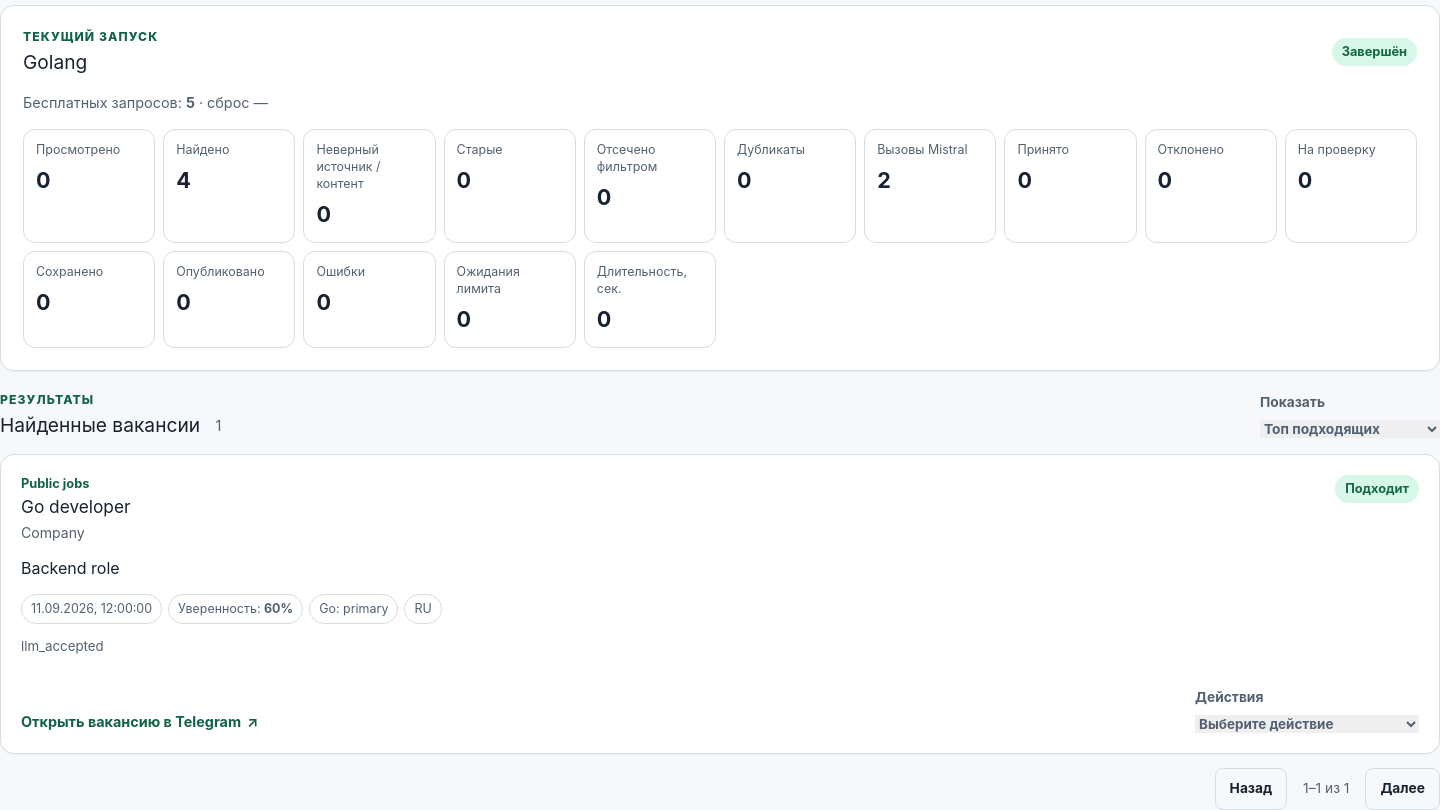
it: Premium search › confirms publication of a accepted card
This screenshot has width=1440, height=810.
(page scrolled)
Select "Опубликовать в Candidate Bot" in the dropdown named "Действия с вакансией «Go developer»" at (1307, 724), box [1195, 715, 1419, 733]
(page scrolled)
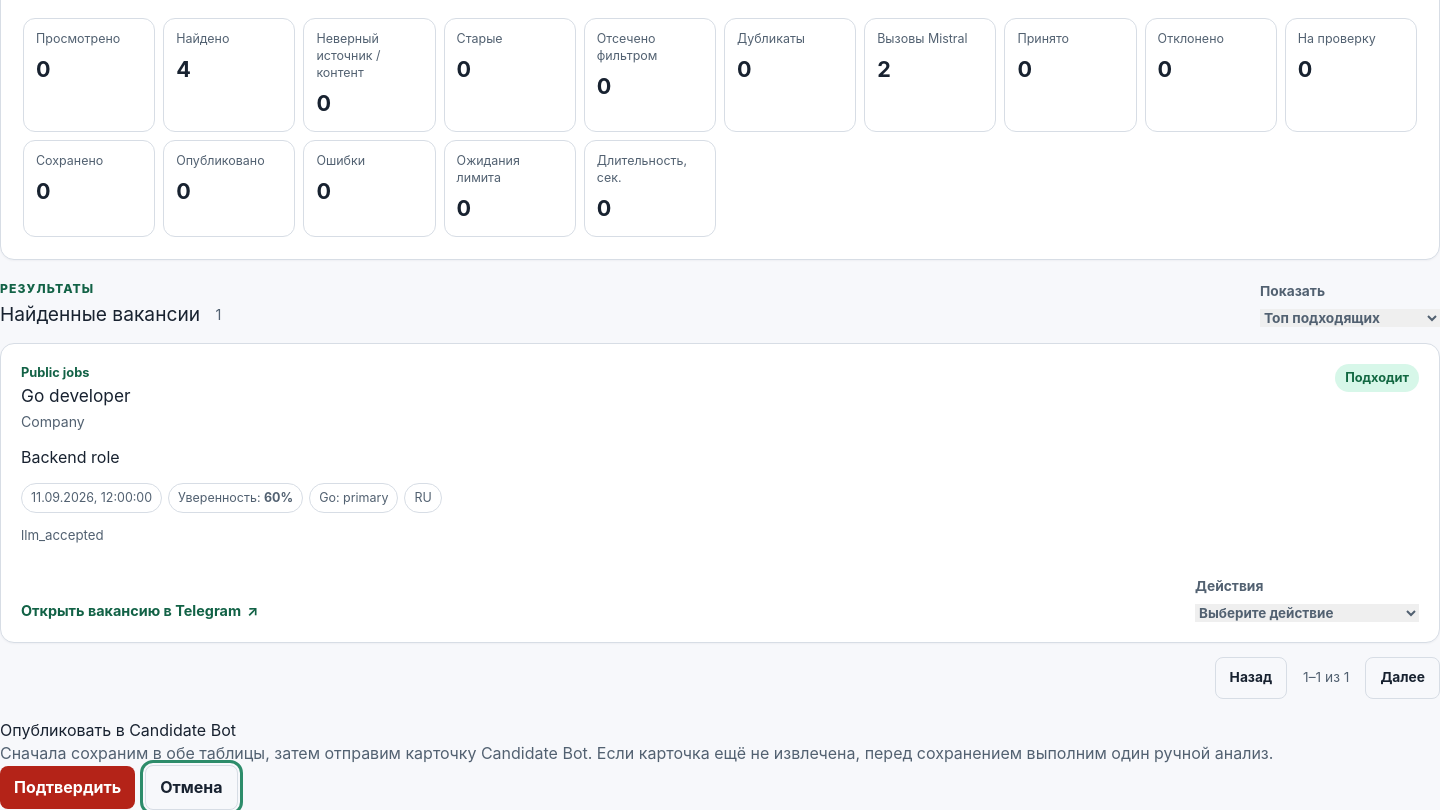
Click the button "Подтвердить".
click(68, 788)  # box [0, 766, 135, 809]
(page scrolled)
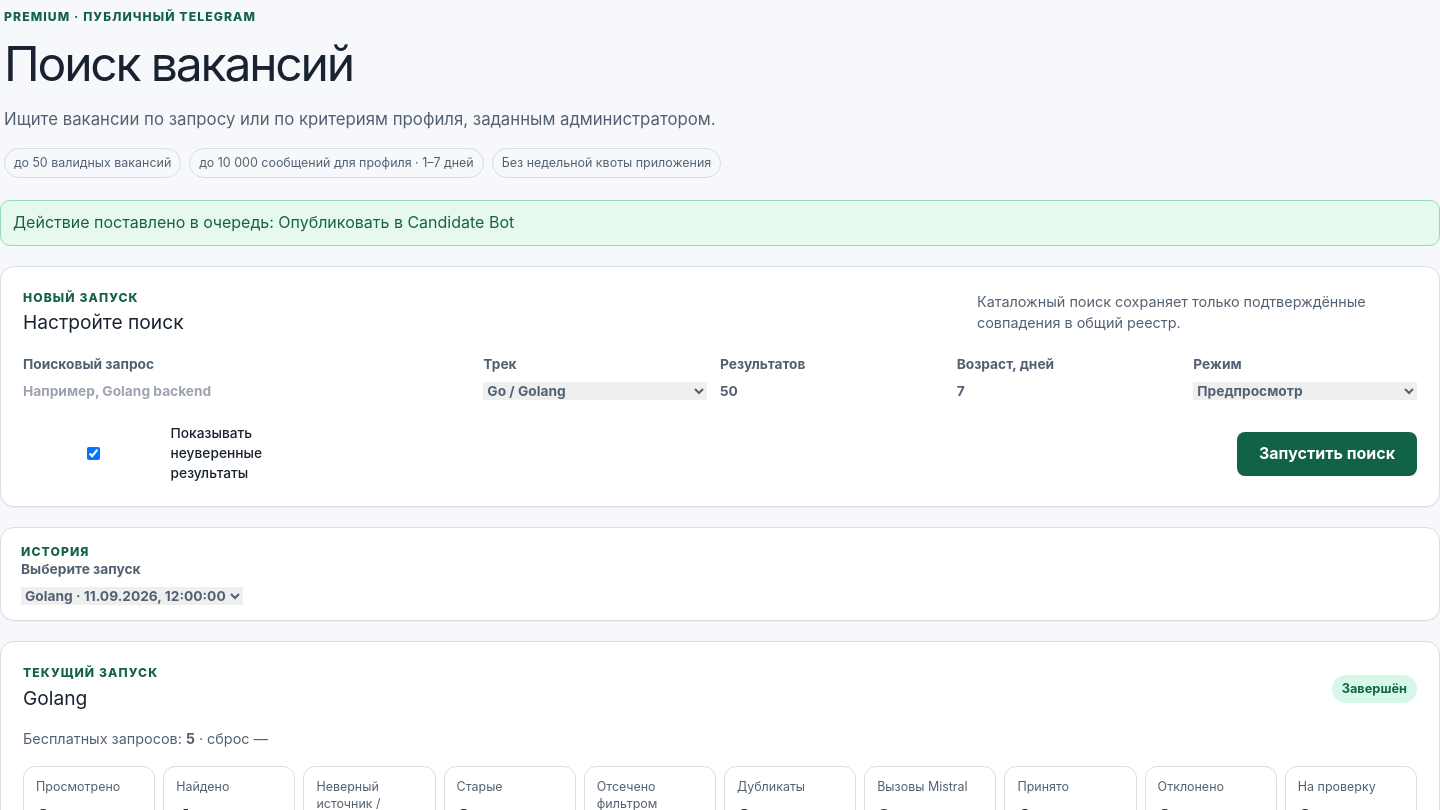
Expected: the text "Действие поставлено в очередь: Опубликовать в Candidate Bot" is shown, [0, 200, 1439, 246]
